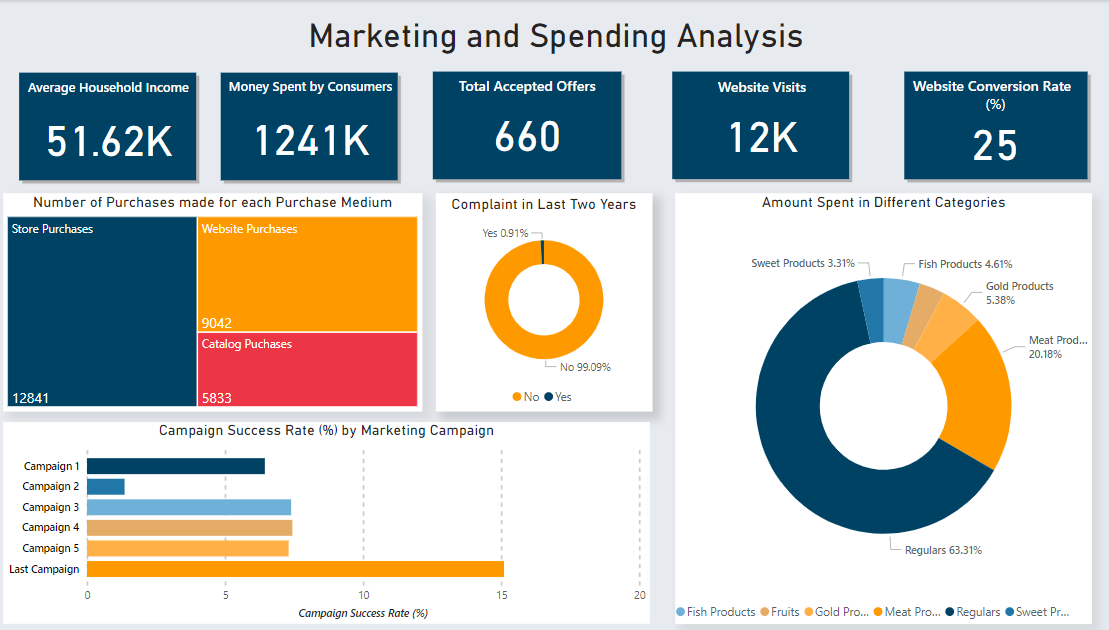

The dashboard page shown, as its layout file describes it:
{"tool":"powerbi","page":{"name":"Marketing and Spending Analysis","canvas":[1280,720],"ordinal":1},"visuals":[{"type":"textbox","box":[24,13.2,1225,55.2],"z":0},{"type":"shape","box":[1029.4,76.8,219.6,133.2],"z":1000},{"type":"shape","box":[248.4,78,212.4,133.2],"z":3000},{"type":"shape","box":[490.7,76.8,225.6,133.2],"z":4000},{"type":"shape","box":[764.6,76.8,212.2,132.9],"z":5000},{"type":"card","title":"Money Spent by Consumers","fields":{"Values":["Sum(ifood_df.MntTotal)"]},"box":[250.8,87.6,210,114],"z":7000},{"type":"card","title":"Website Visits","fields":{"Values":["Sum(ifood_df.NumWebVisitsMonth)"]},"box":[772.7,87.6,198,111.6],"z":8000},{"type":"treemap","title":"Number of Purchases made for each Purchase Medium","fields":{"Values":["Sum(ifood_df.NumCatalogPurchases)","Sum(ifood_df.NumStorePurchases)","Sum(ifood_df.NumWebPurchases)"]},"box":[4.8,220.8,478.7,249.6],"z":9000},{"type":"donutChart","title":"Amount Spent in Different Categories","fields":{"Y":["Sum(ifood_df.MntFishProducts)","Sum(ifood_df.MntFruits)","Sum(ifood_df.MntGoldProds)","Sum(ifood_df.MntMeatProducts)","Sum(ifood_df.MntRegularProds)","Sum(ifood_df.MntSweetProducts)"]},"box":[772.7,220.8,476.3,491.9],"z":10000},{"type":"donutChart","title":"Complaint in Last Two Years","fields":{"Category":["ifood_df.Complaint in Last 2 Years"],"Y":["CountNonNull(ifood_df.Complaint in Last 2 Years)"]},"box":[499.1,220.8,247.2,249.6],"z":11000},{"type":"card","title":"Website Conversion Rate","fields":{"Values":["ifood_df.Webiste Conversion Rate"]},"box":[1039,86.4,199.2,111.6],"z":12000},{"type":"clusteredBarChart","fields":{"Category":["Marketing_Campaign.Marketing Campaign"],"Y":["Avg(Marketing_Campaign.Success Rate)"]},"box":[4.8,482.3,739.1,230.4],"z":13000},{"type":"shape","box":[18,78,212.4,133.2],"z":13001},{"type":"card","title":"Average Household Income","fields":{"Values":["Avg(ifood_df.Income)"]},"box":[24,88.8,201.6,114],"z":13002},{"type":"card","title":"Total Accepted Offers","fields":{"Values":["Sum(ifood_df.AcceptedCmpOverall)"]},"box":[501.5,86.4,204,111.6],"z":13003}]}

Visuals, with their boxes in screenshot pixels (x1, y1, x2, y2), scaled from the page's 1280x720 canvas onto the 1109x630 screenshot:
textbox: bbox=[21, 12, 1082, 60]
shape: bbox=[892, 67, 1082, 184]
shape: bbox=[215, 68, 399, 185]
shape: bbox=[425, 67, 621, 184]
shape: bbox=[662, 67, 846, 183]
"Money Spent by Consumers" card: bbox=[217, 77, 399, 176]
"Website Visits" card: bbox=[669, 77, 841, 174]
"Number of Purchases made for each Purchase Medium" treemap: bbox=[4, 193, 419, 412]
"Amount Spent in Different Categories" donutChart: bbox=[669, 193, 1082, 624]
"Complaint in Last Two Years" donutChart: bbox=[432, 193, 647, 412]
"Website Conversion Rate" card: bbox=[900, 76, 1073, 173]
clusteredBarChart - Marketing_Campaign.Marketing Campaign x Avg(Marketing_Campaign.Success Rate): bbox=[4, 422, 645, 624]
shape: bbox=[16, 68, 200, 185]
"Average Household Income" card: bbox=[21, 78, 195, 177]
"Total Accepted Offers" card: bbox=[435, 76, 611, 173]
